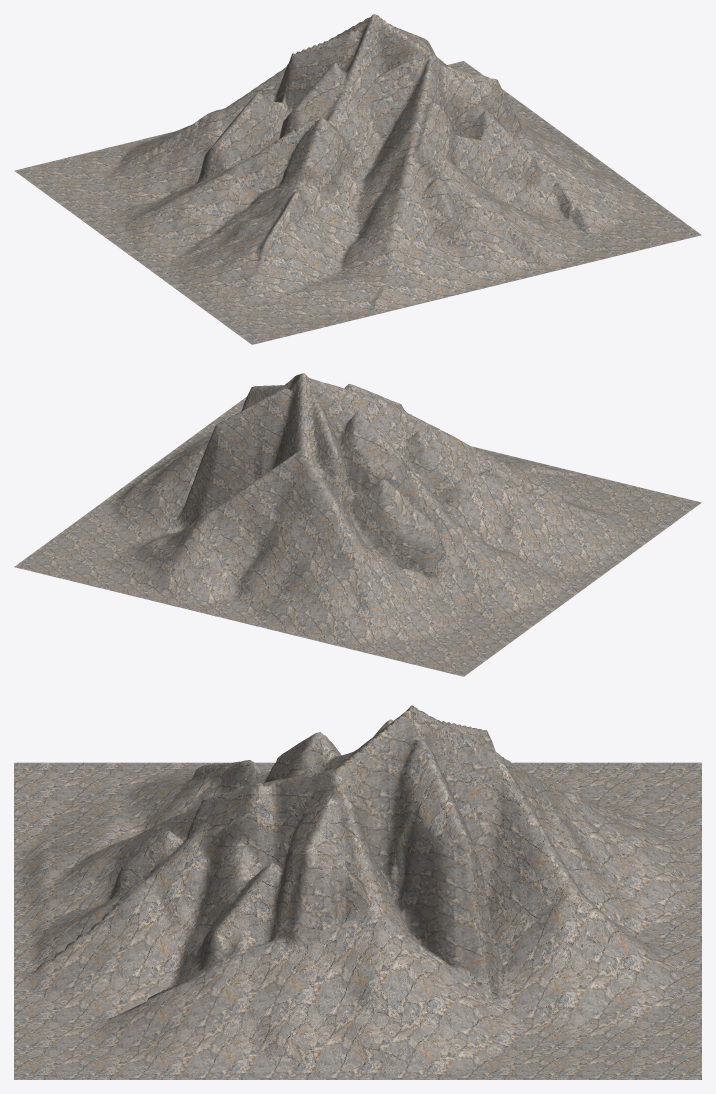
Rendered from corealm_mountain_1.glb.
3 views of the same model, one above another, from view 1: azimuth 30°, elevation 25°; view 2: azimuth 150°, elevation 25°; view 3: azimuth 270°, elevation 25° (orthographic). The views are drawn at different scales.
Parts seen in each view (by area): view 1: corealm_mountain_1; view 2: corealm_mountain_1; view 3: corealm_mountain_1.
Boxes of the visible parts, bbox=[...] form: corealm_mountain_1: bbox=[14, 14, 701, 344]; corealm_mountain_1: bbox=[14, 373, 701, 676]; corealm_mountain_1: bbox=[14, 705, 701, 1079].
Size of the model in its own units: 480 by 170 by 440.
1 material, 1 textured.
